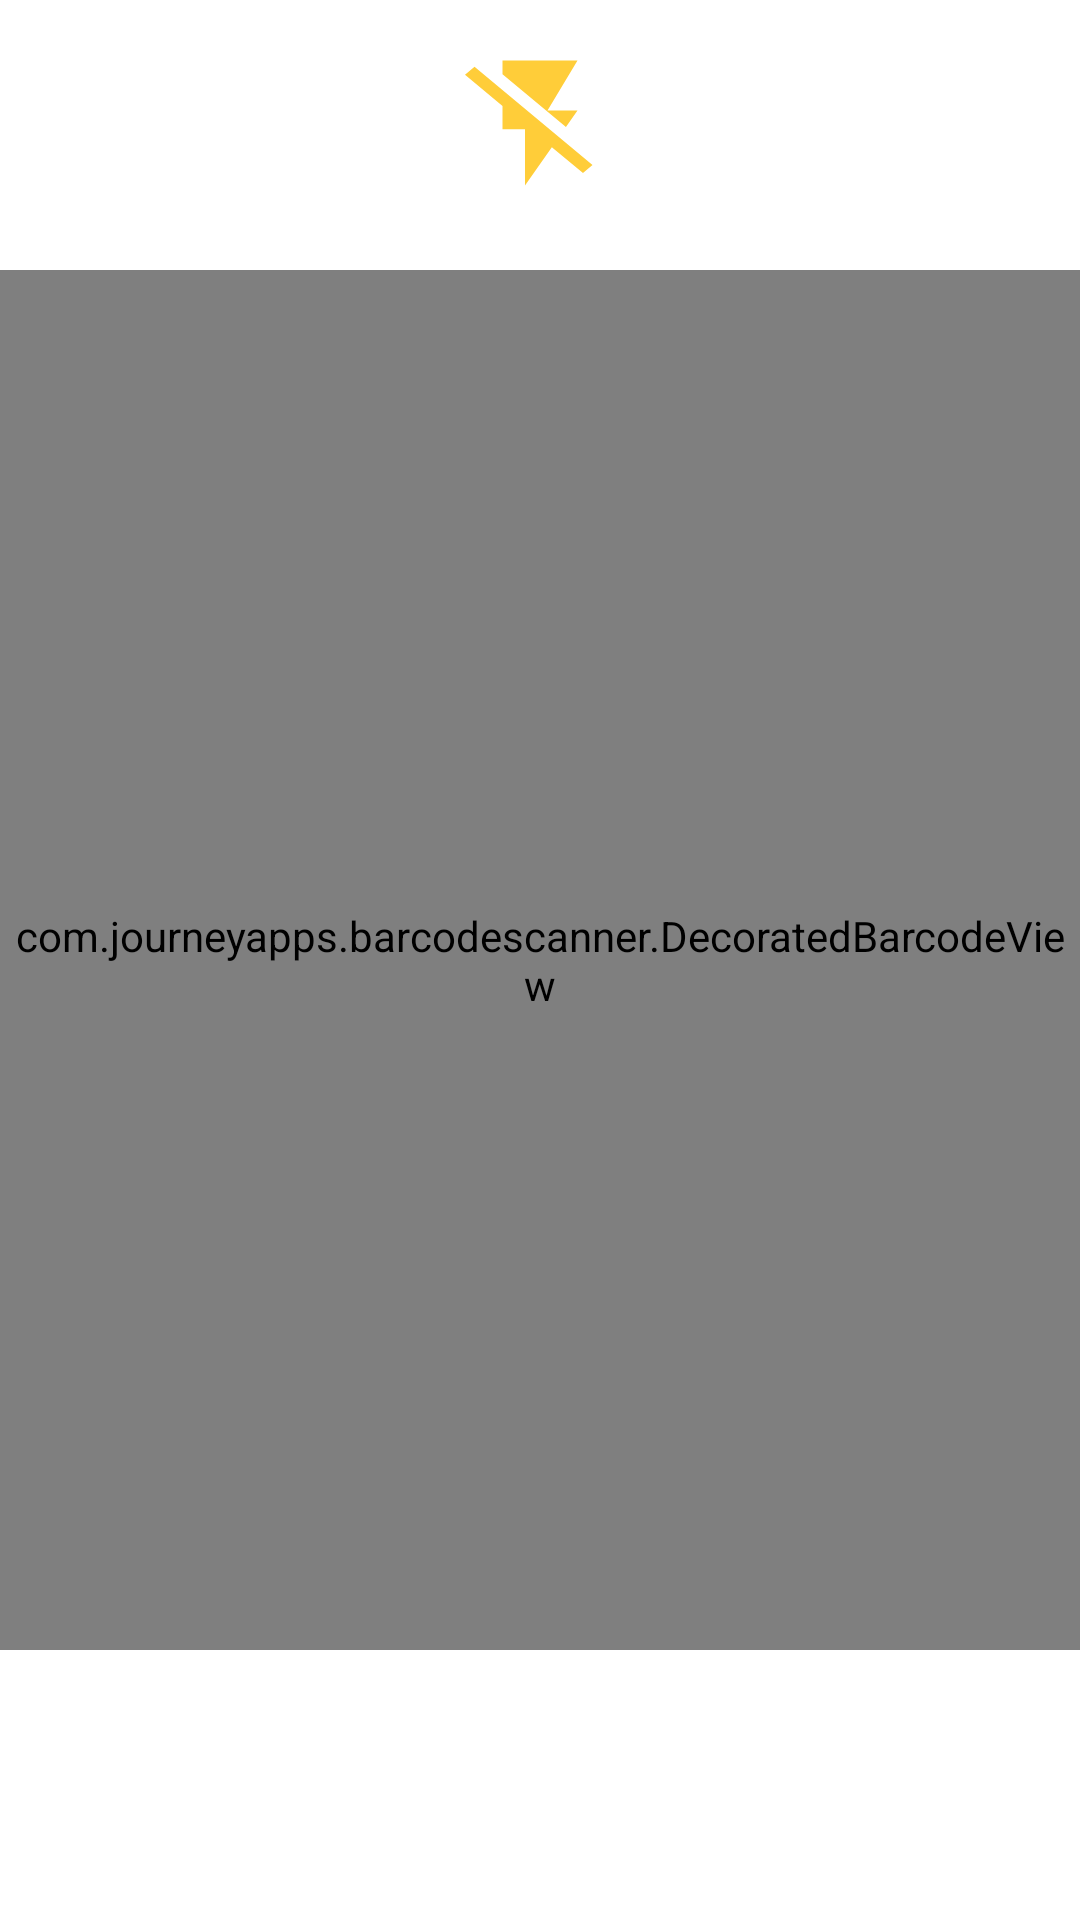

Point at icon controls on the screen. Image size 1080w x 1920h, points as (x=x, y=y).
flashoff: (x=528, y=122)
